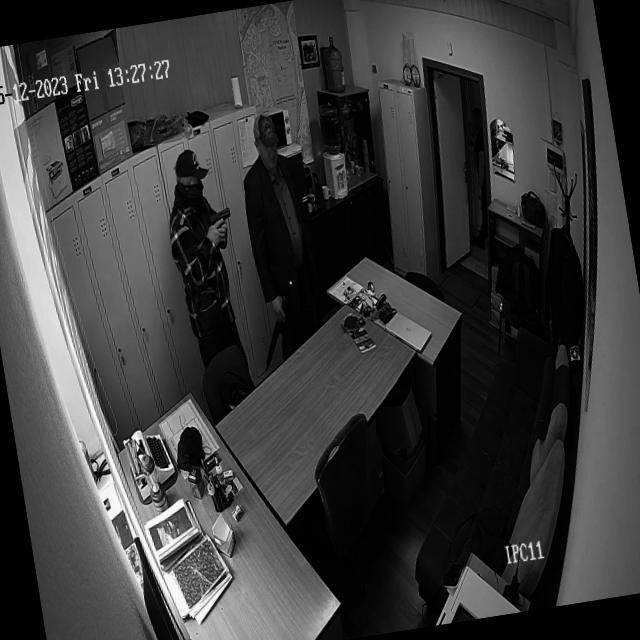gun: (207, 203, 232, 231)
person: (230, 108, 324, 333)
person with a gun: (154, 142, 252, 348)
